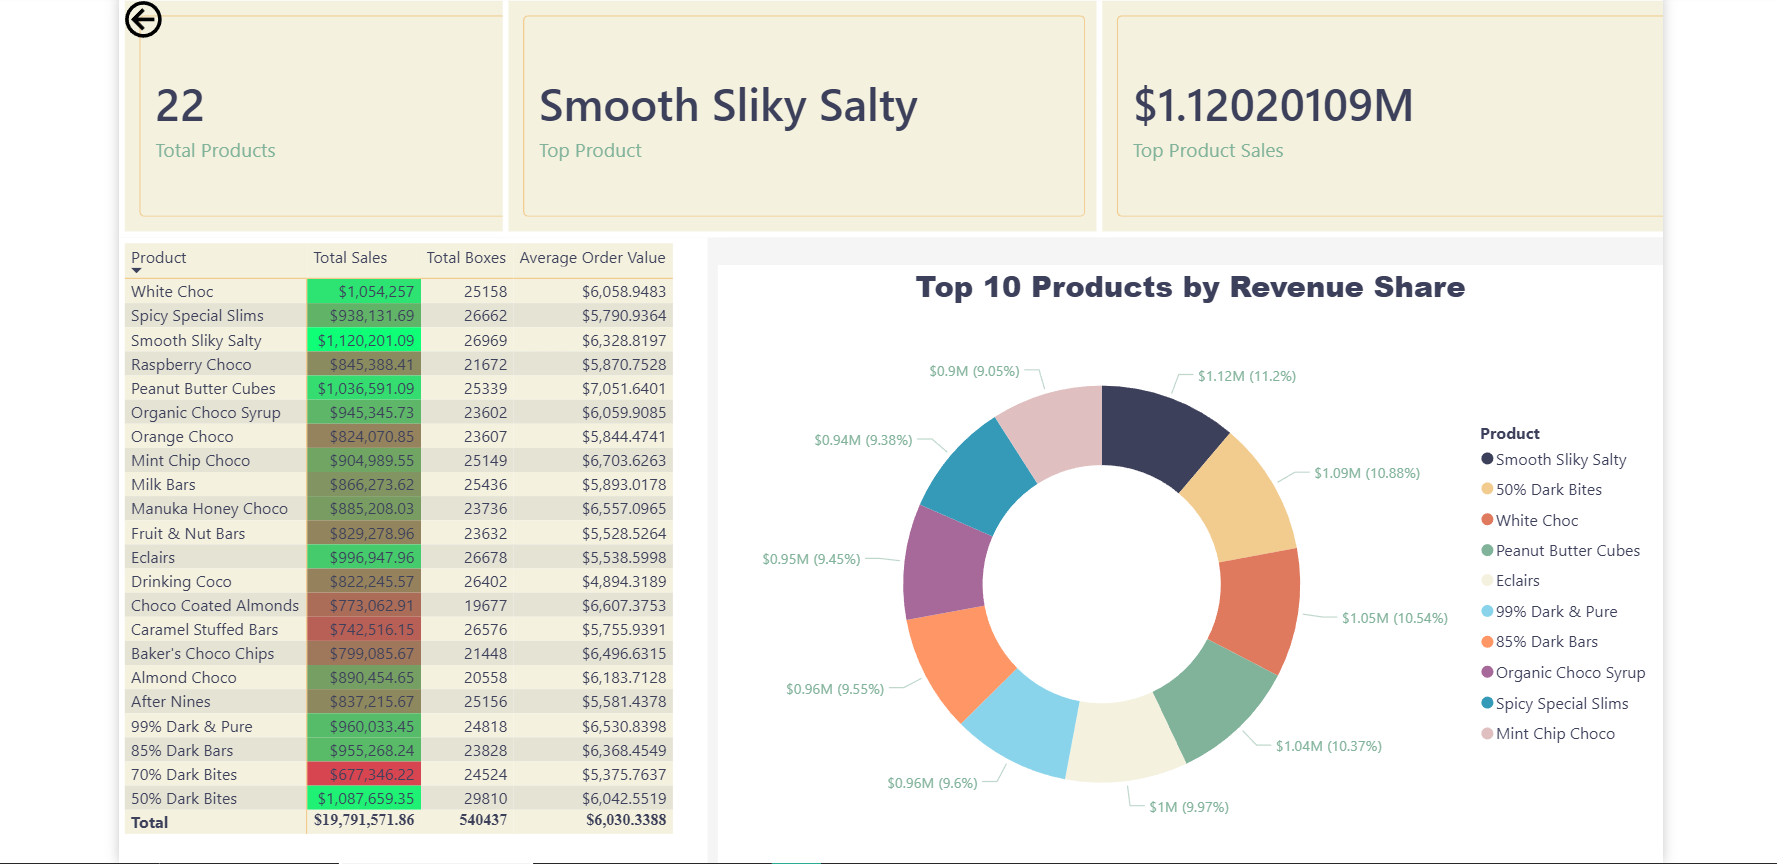

What the dashboard file says about the page in this screenshot:
{"tool":"powerbi","page":{"name":"Product Performance","canvas":[1280,720],"ordinal":1},"visuals":[{"type":"pivotTable","fields":{"Rows":["Chocolate Sales (2).Product"],"Values":["Chocolate Sales (2).Total Sales","Chocolate Sales (2).Total Boxes","Chocolate Sales (2).Average Order Value"]},"box":[0,201,488.4,519.4],"z":0},{"type":"donutChart","title":"Top 10 Products by Revenue Share","fields":{"Category":["Chocolate Sales (2).Product"],"Y":["Chocolate Sales (2).Total Sales"]},"box":[496,224,784,496],"z":1000},{"type":"cardVisual","fields":{"Data":["Chocolate Sales (2).Total Products"]},"box":[0,0,500,201],"z":2000},{"type":"cardVisual","fields":{"Data":["Chocolate Sales (2).Top Product"]},"box":[318.4,0,500,201],"z":3000},{"type":"cardVisual","fields":{"Data":["Chocolate Sales (2).Top Product Sales"]},"box":[810.8,0,500,201],"z":4000},{"type":"actionButton","box":[0,0,49.9,40.5],"z":4001}]}

Visuals, with their boxes on the page's 1280x720 design canvas (x1, y1, x2, y2). These are canvas units, not pixel positions in the 1777x864 screenshot, which may show the page scaled, cropped or inside an application window:
pivotTable - Chocolate Sales (2).Product x Chocolate Sales (2).Total Sales: box(0, 201, 488, 720)
"Top 10 Products by Revenue Share" donutChart: box(496, 224, 1280, 720)
cardVisual - Chocolate Sales (2).Total Products: box(0, 0, 500, 201)
cardVisual - Chocolate Sales (2).Top Product: box(318, 0, 818, 201)
cardVisual - Chocolate Sales (2).Top Product Sales: box(811, 0, 1311, 201)
actionButton: box(0, 0, 50, 40)
